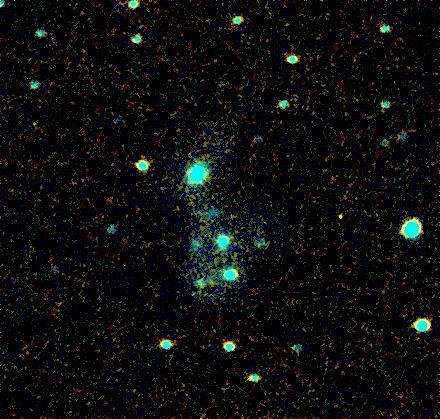star: (327, 200, 357, 230)
